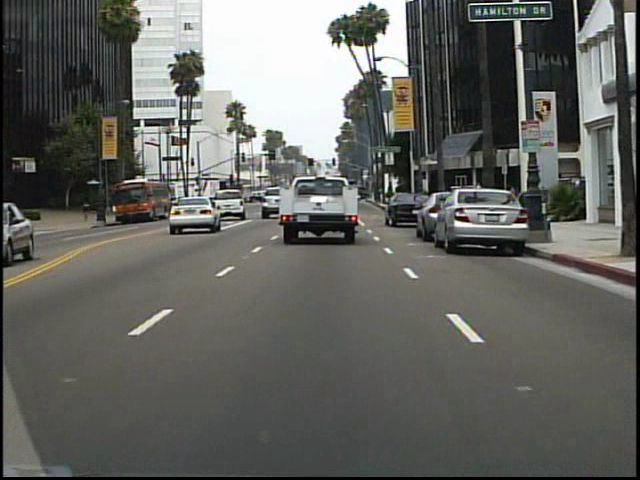person: (81, 197, 92, 224)
